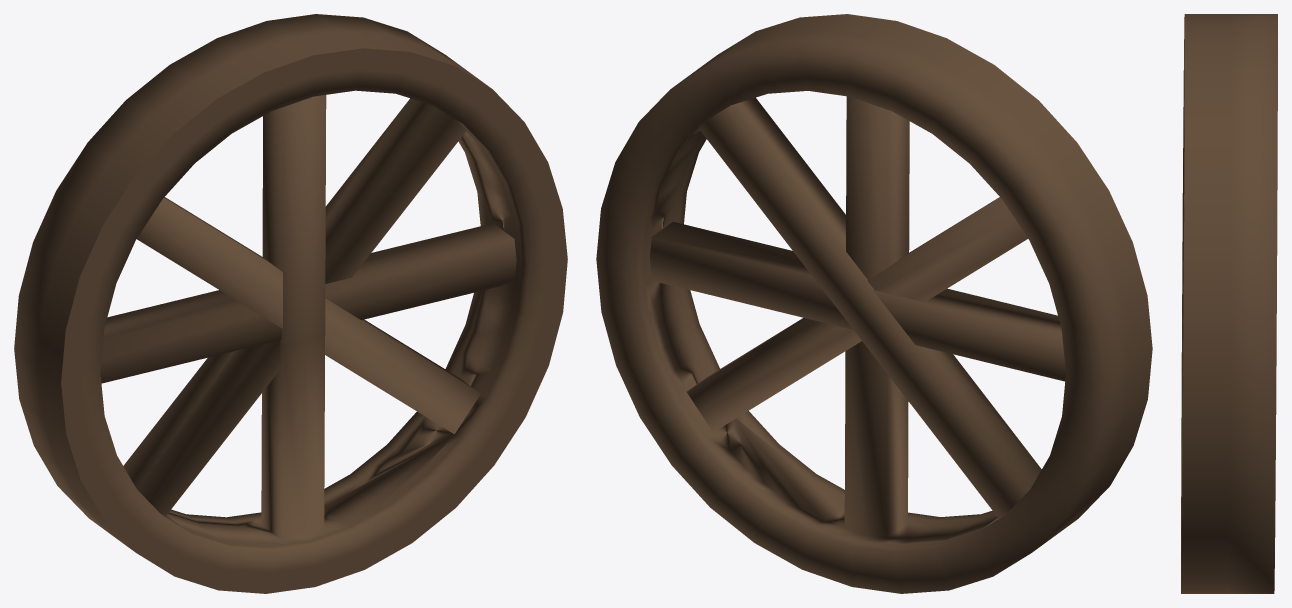
File: wheels.fbx
3 views of the same model, side by side, from view 1: azimuth 30°, elevation 25°; view 2: azimuth 150°, elevation 25°; view 3: azimuth 270°, elevation 25° (orthographic).
Visible parts, largest first — view 1: Circle; view 2: Circle; view 3: Circle.
Boxes of the visible parts, x1=… form: Circle: x1=14, y1=14, x2=567, y2=593; Circle: x1=596, y1=14, x2=1152, y2=593; Circle: x1=1181, y1=14, x2=1277, y2=593.
Size of the model in its own units: 200 by 200 by 33.41.
